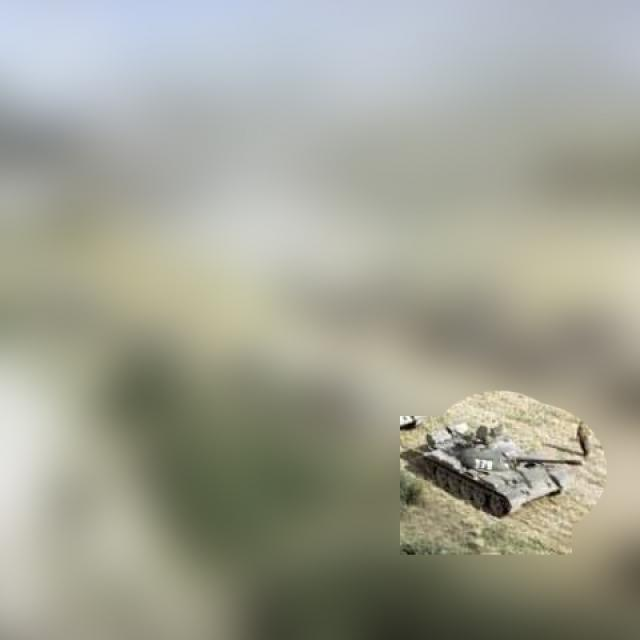tank: (410, 418, 582, 521)
